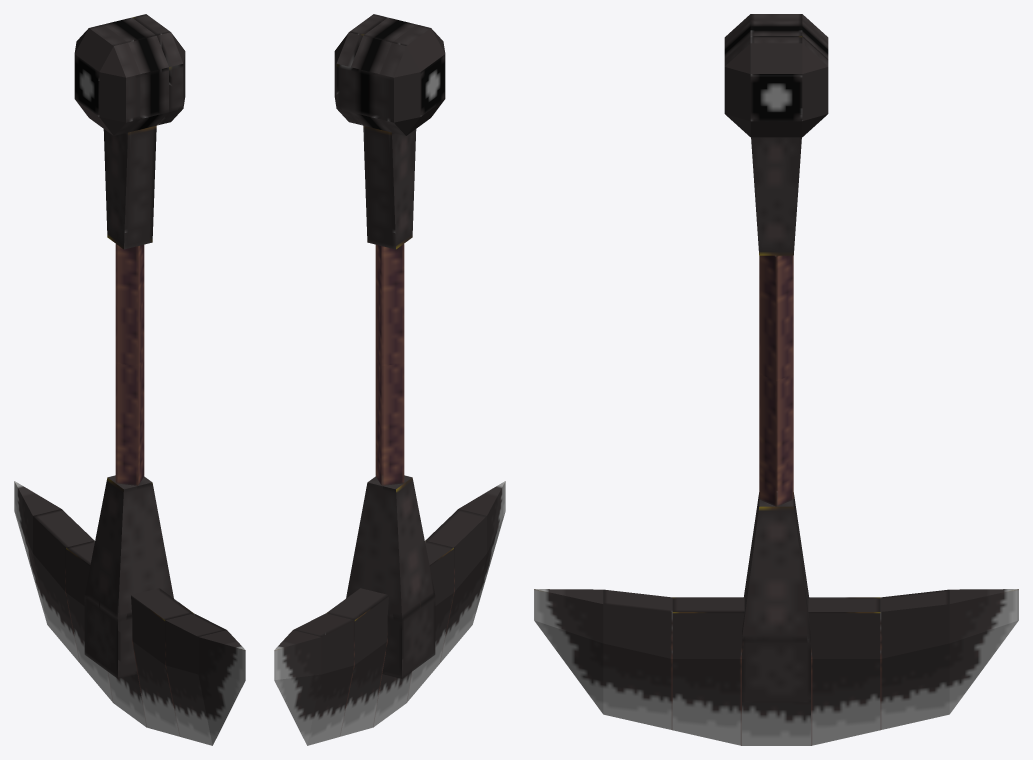
File: Swinging_Blade.glb
3 renders of one model, left to right at view 1: azimuth 30°, elevation 25°; view 2: azimuth 150°, elevation 25°; view 3: azimuth 270°, elevation 25°, orthographic. The views are drawn at different scales.
Visible parts, largest first — view 1: Swinging_Blade; view 2: Swinging_Blade; view 3: Swinging_Blade.
Boxes of the visible parts, bbox=[...] form: Swinging_Blade: bbox=[14, 14, 245, 745]; Swinging_Blade: bbox=[274, 14, 505, 745]; Swinging_Blade: bbox=[534, 14, 1018, 745].
Bounding box in the file's own units: 0.75 × 5.71 × 3.5.
Materials: 1 (1 with a texture image).
